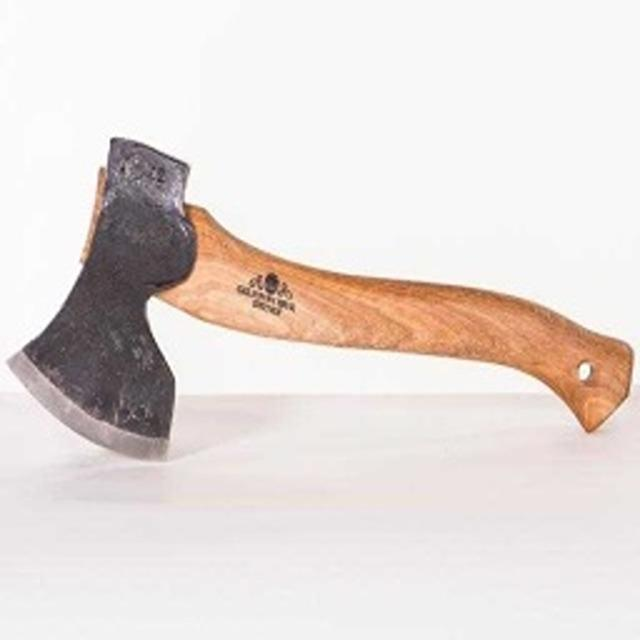ax: (0, 129, 640, 473)
